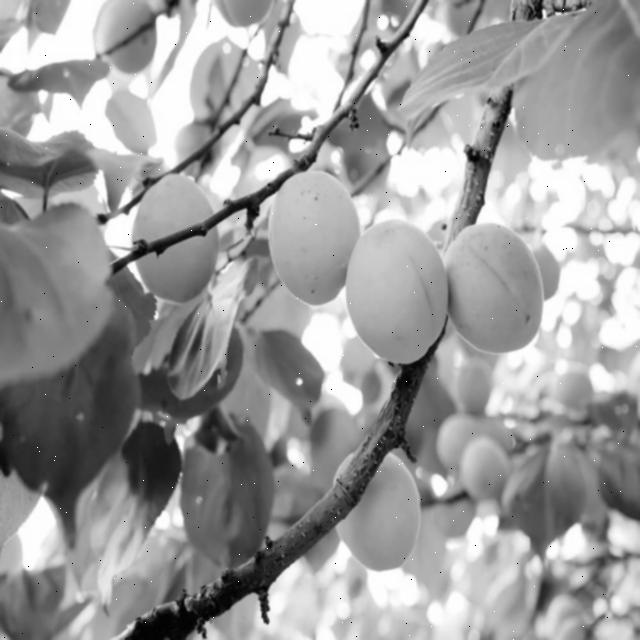kayisi: (358, 228, 458, 395), (347, 471, 433, 556), (107, 24, 192, 102), (284, 174, 338, 282), (150, 191, 197, 282), (213, 0, 290, 48), (177, 125, 248, 173), (462, 455, 527, 503), (538, 374, 603, 416), (446, 13, 495, 54), (438, 430, 486, 470), (445, 491, 471, 557), (564, 596, 596, 640), (464, 367, 498, 405)
yaprak: (390, 58, 640, 178), (0, 228, 90, 363), (14, 380, 118, 495), (7, 64, 79, 210), (195, 447, 276, 569), (159, 313, 257, 401), (522, 447, 582, 537), (126, 420, 180, 507), (0, 579, 71, 640), (88, 94, 154, 157), (497, 573, 552, 640), (599, 444, 640, 510)
